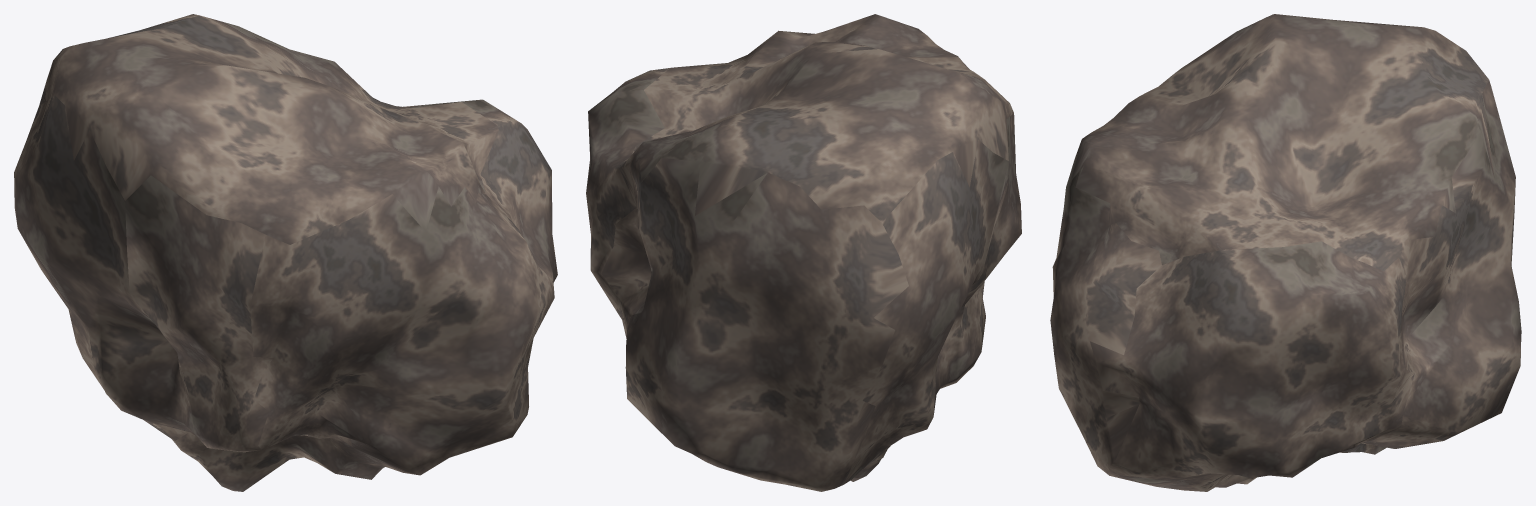
File: boulder2.fbx
3 views of the same model, side by side, from view 1: azimuth 30°, elevation 25°; view 2: azimuth 150°, elevation 25°; view 3: azimuth 270°, elevation 25° (orthographic). The views are drawn at different scales.
Parts seen in each view (by area): view 1: boulder; view 2: boulder; view 3: boulder.
Boxes of the visible parts, x1,y1,x2,y2 form: boulder: [14, 14, 557, 491]; boulder: [586, 14, 1021, 491]; boulder: [1050, 14, 1521, 491].
Bounding box in the file's own units: 115 × 110 × 113.
1 material, 1 textured.
